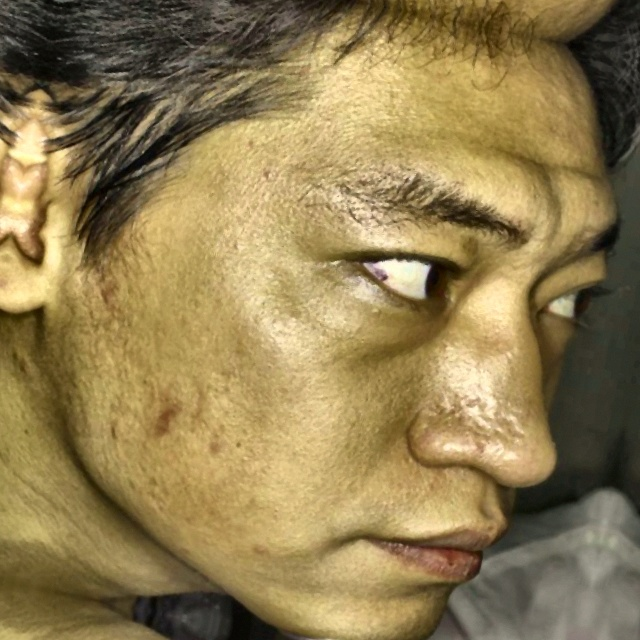comedone: (140, 386, 197, 447)
